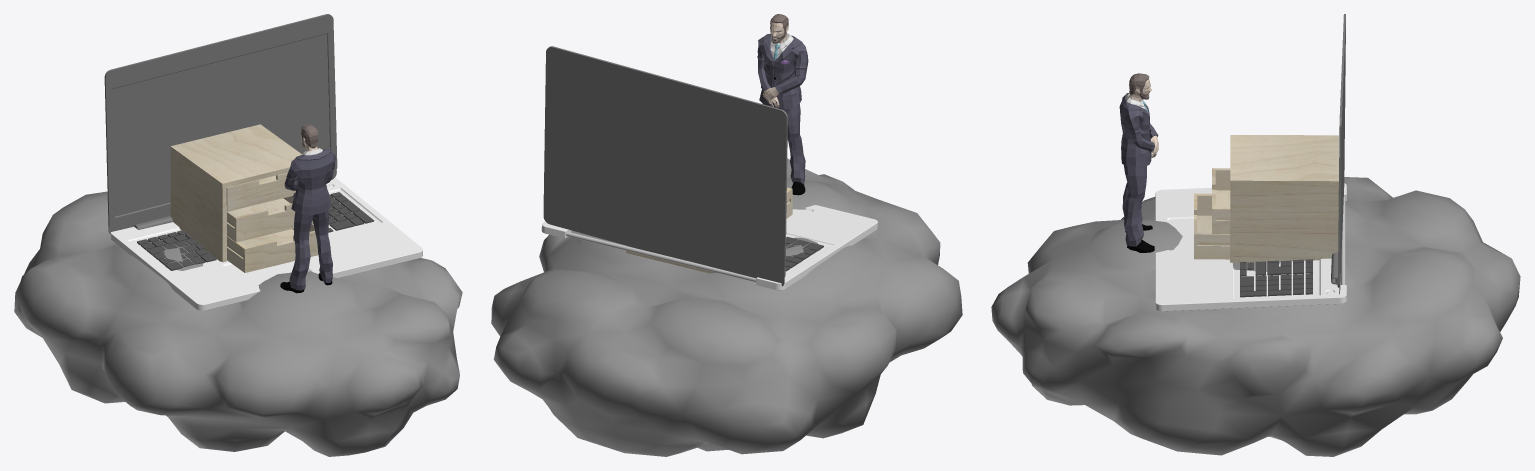
The model's file is chronological_scene.glb.
3 views of the same model, side by side, from view 1: azimuth 30°, elevation 25°; view 2: azimuth 150°, elevation 25°; view 3: azimuth 270°, elevation 25° (orthographic). The views are drawn at different scales.
Visible parts, largest first — view 1: Clouds, Body1_Aluminum_-_Anodized_Glossy_(Grey)_0, Circle002, Body1, JonnyFrostobj_FlaBlack_0; view 2: Clouds, Body1_Aluminum_-_Anodized_Glossy_(Grey)_0, Body1, JonnyFrostobj_FlaBlack_0, Body1_Steel_-_Satin_0, JonnyFrostobj_Skin_0, Circle002; view 3: Clouds, Circle002, Body1, JonnyFrostobj_FlaBlack_0, Body1_Aluminum_-_Anodized_Glossy_(Grey)_0.
Boxes of the visible parts, bbox=[...] form: Clouds: bbox=[14, 191, 462, 456]; Body1_Aluminum_-_Anodized_Glossy_(Grey)_0: bbox=[104, 14, 337, 234]; Circle002: bbox=[170, 124, 318, 272]; Body1: bbox=[110, 178, 422, 310]; JonnyFrostobj_FlaBlack_0: bbox=[284, 149, 335, 290]; Clouds: bbox=[491, 158, 962, 456]; Body1_Aluminum_-_Anodized_Glossy_(Grey)_0: bbox=[543, 46, 787, 286]; Body1: bbox=[541, 205, 877, 290]; JonnyFrostobj_FlaBlack_0: bbox=[757, 33, 808, 184]; Body1_Steel_-_Satin_0: bbox=[566, 231, 755, 282]; JonnyFrostobj_Skin_0: bbox=[762, 21, 788, 107]; Circle002: bbox=[626, 187, 792, 273]; Clouds: bbox=[991, 177, 1520, 456]; Circle002: bbox=[1194, 135, 1338, 263]; Body1: bbox=[1155, 183, 1346, 311]; JonnyFrostobj_FlaBlack_0: bbox=[1119, 93, 1158, 246]; Body1_Aluminum_-_Anodized_Glossy_(Grey)_0: bbox=[1331, 14, 1345, 294].
Size of the model in its own units: 2.13 by 2.07 by 2.68.
18 materials, 5 textured.
